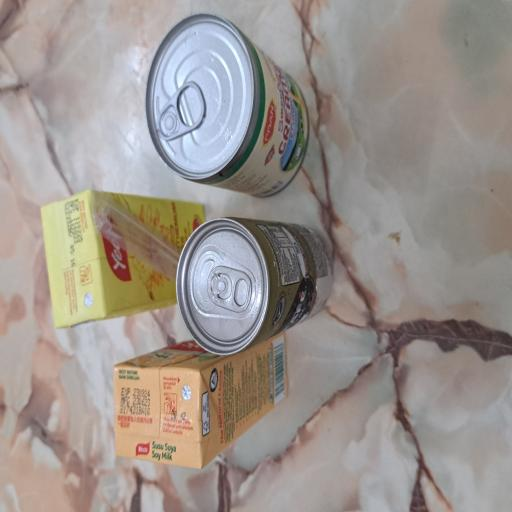can: (236, 192, 374, 414), (116, 234, 222, 440)
drink carton: (34, 154, 136, 384), (138, 55, 242, 275)
pop tab: (277, 207, 325, 276), (146, 275, 186, 339)
